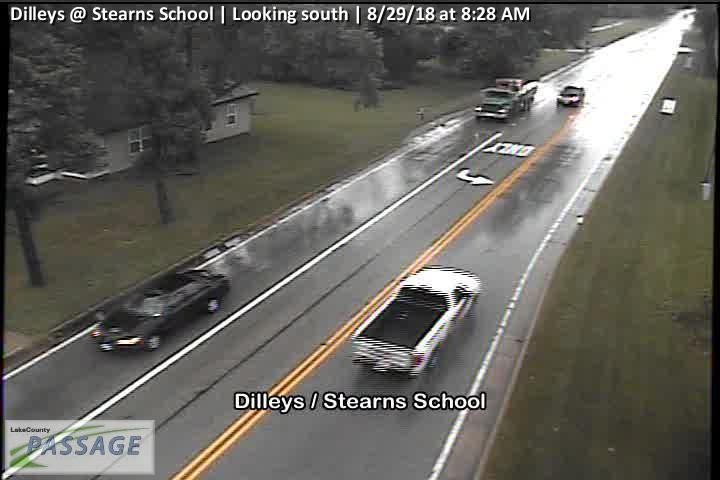Sedan: (91, 268, 229, 352), (556, 84, 584, 107)
Truck: (352, 265, 484, 377), (474, 76, 538, 122)
